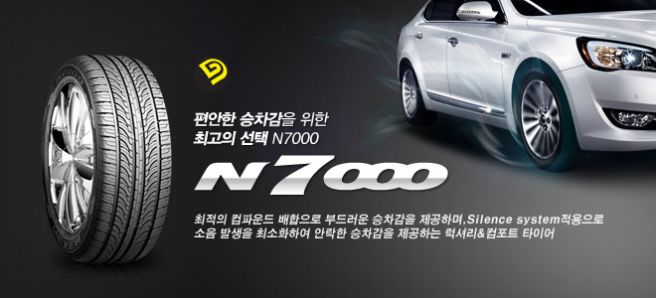new_condition: (42, 55, 171, 273)
